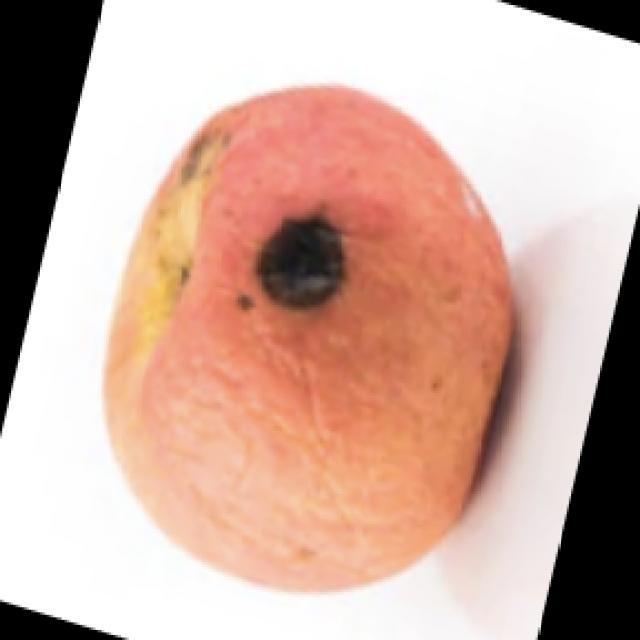Rotten: (124, 92, 514, 585)
